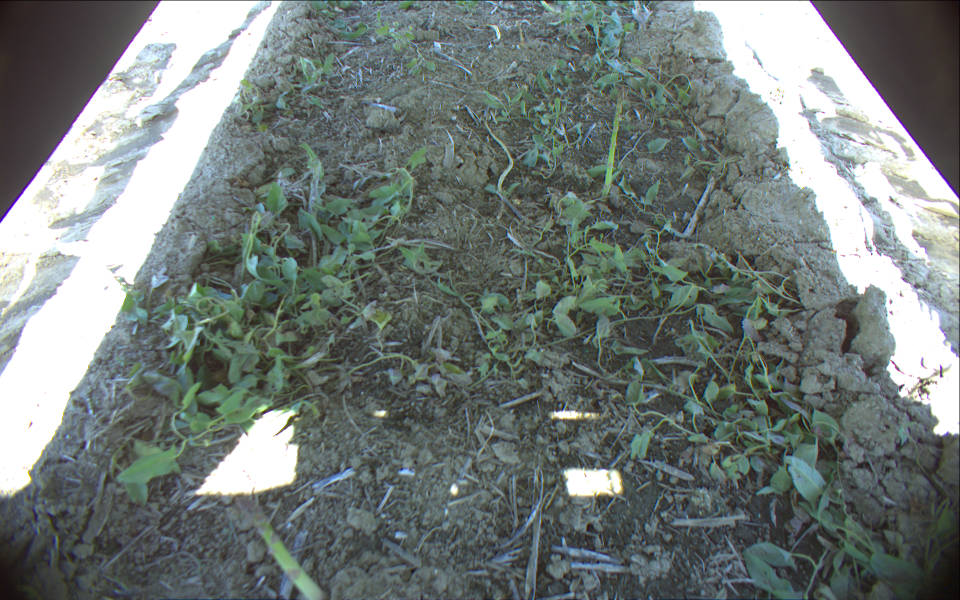aspa: (222, 492, 328, 600), (596, 84, 629, 203)
